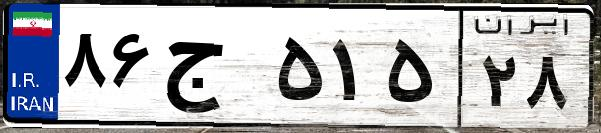1: (330, 28, 385, 110)
2: (475, 38, 525, 113)
5: (270, 28, 330, 110), (385, 28, 445, 110)
6: (110, 28, 158, 98)
8: (57, 26, 110, 100), (525, 38, 570, 115)
ج: (158, 20, 270, 120)
